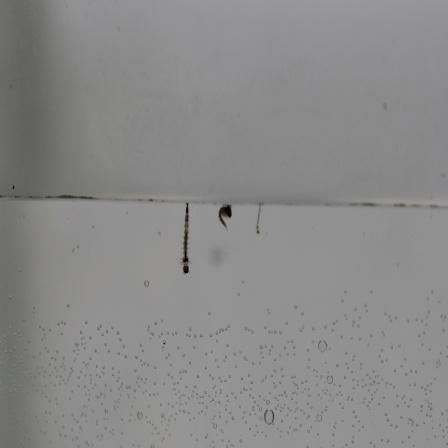Jentik-Nyamuk: (176, 200, 193, 277), (214, 202, 237, 230), (251, 201, 268, 236)
